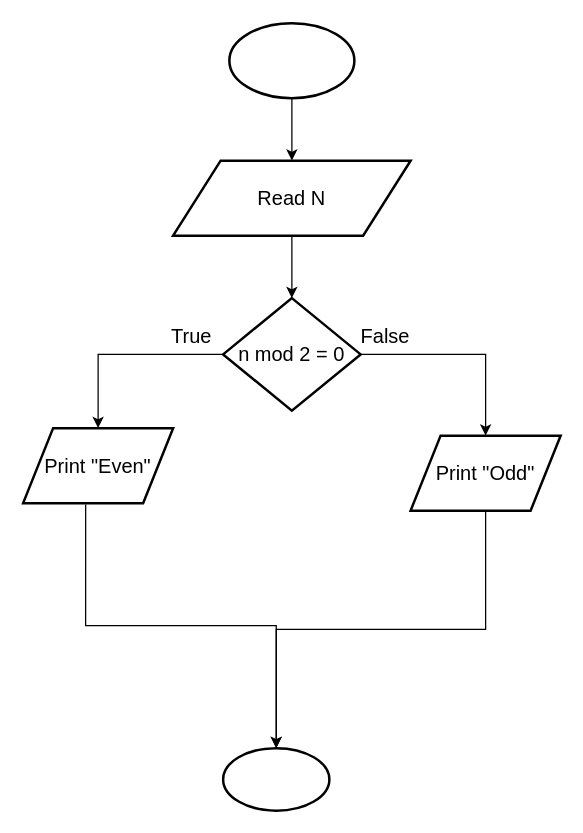
Image size: 583x833. Some labels were removed from this diagram. Each missing label, with the box of its shape:
Start: (228, 21, 355, 99)
Stop: (221, 746, 330, 811)
